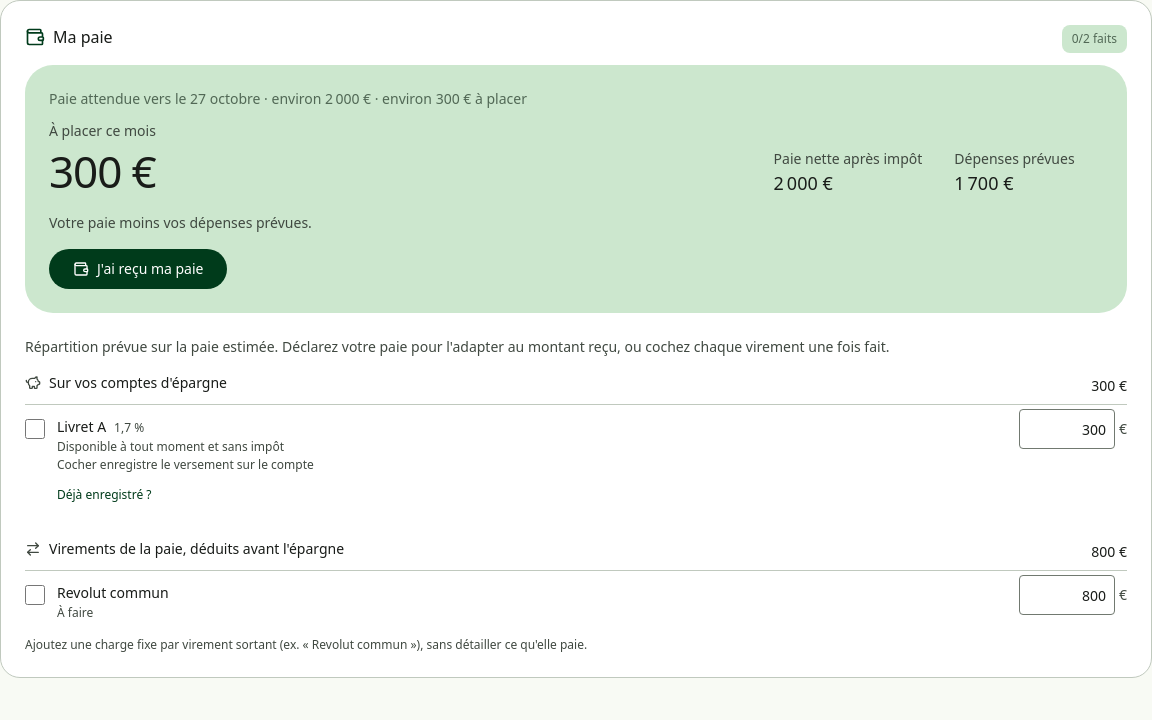
Carte « Ma paie » › « J’ai reçu ma paie » ouvre le rituel (chargé à la demande) ; Échap le ferme
Click the button "J'ai reçu ma paie" at [138, 269], box [49,249,228,289]
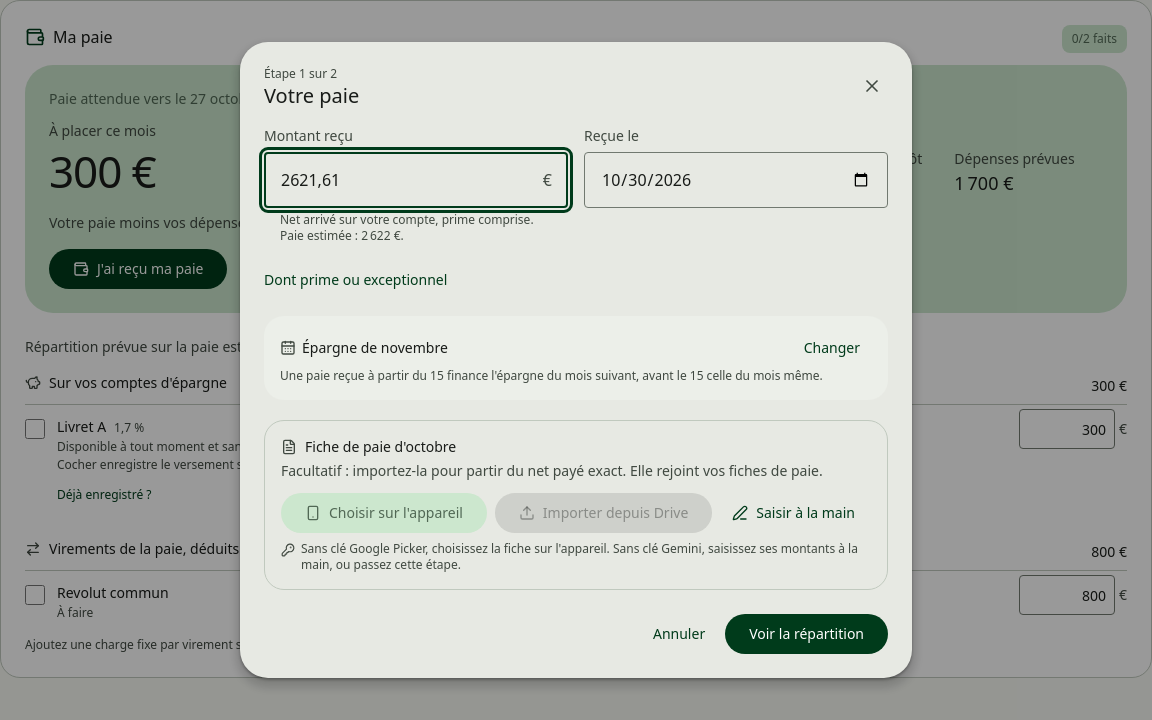
Le focus entre dans la fenêtre (ses écouteurs, Échap compris, sont posés).
Press Escape
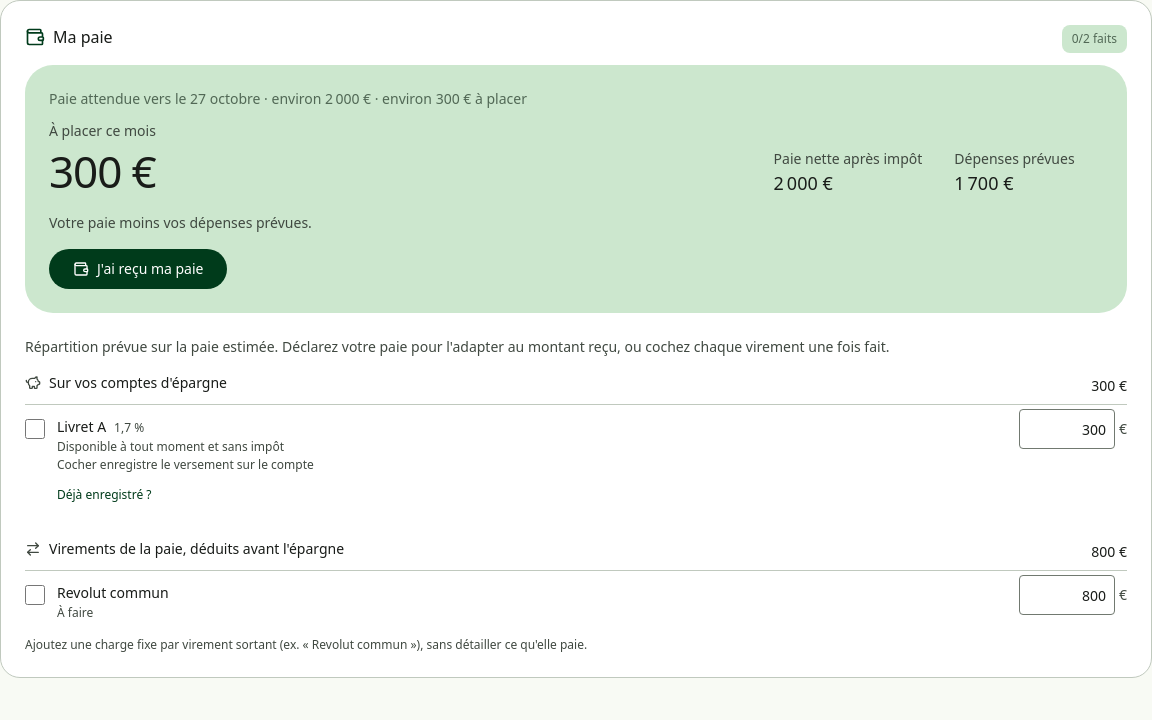
Expected: the dialog is gone
